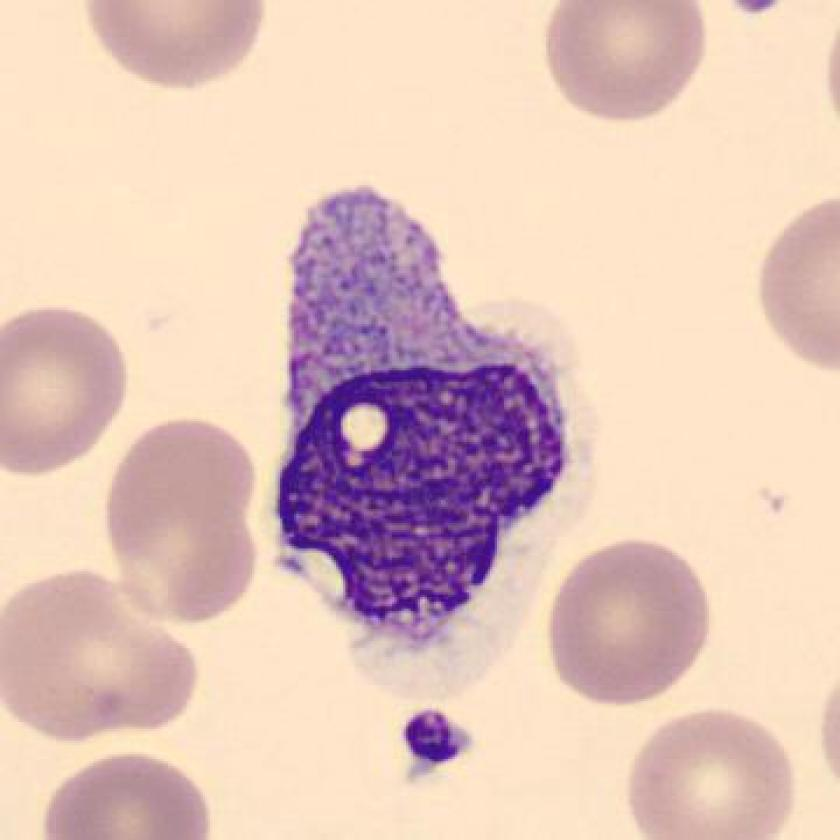monocyte: (225, 168, 624, 709)
